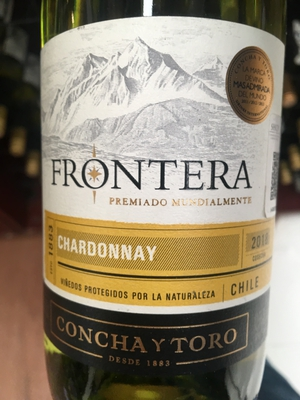frontera chardonnay: (42, 16, 284, 400)
